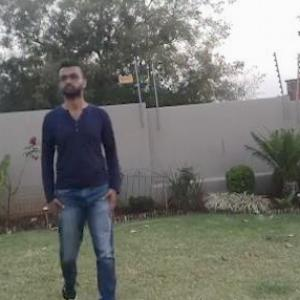follow: (42, 56, 132, 299)
